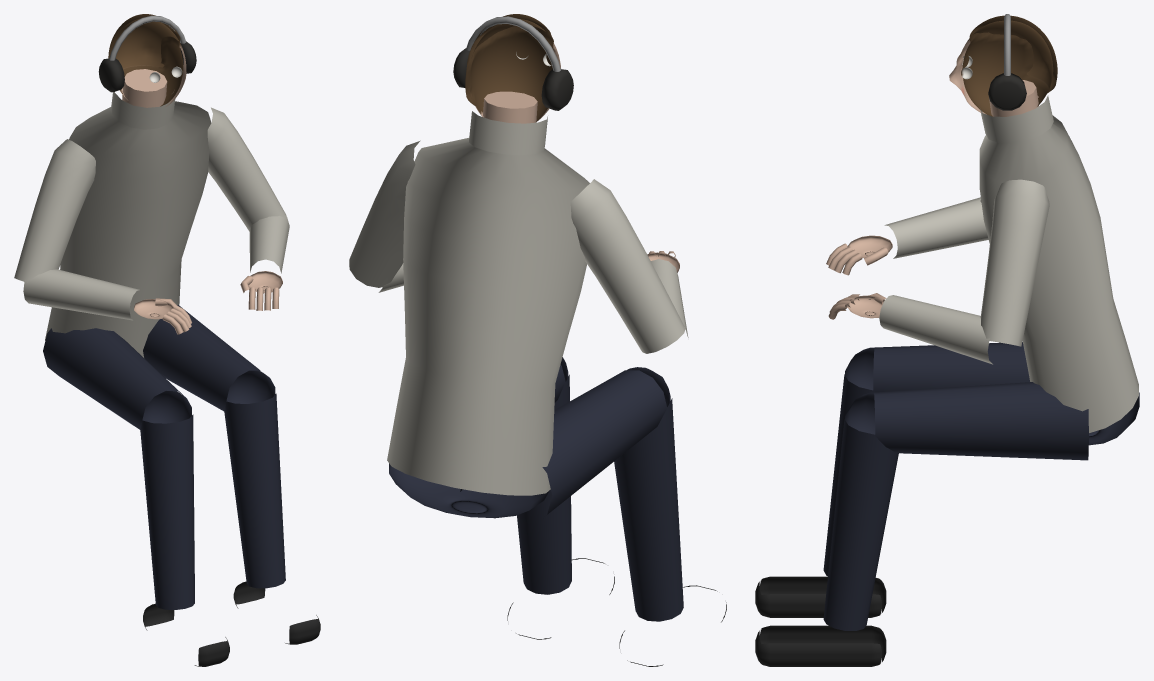
The model's file is sonar_seated.glb.
3 renders of one model, left to right at view 1: azimuth 30°, elevation 25°; view 2: azimuth 150°, elevation 25°; view 3: azimuth 270°, elevation 25°, orthographic. The views are drawn at different scales.
Parts seen in each view (by area): view 1: body, head; view 2: body, head; view 3: body, head.
Part boxes in pixels (box(x1,y1,x2,y2)): body: box(14, 69, 320, 666); head: box(98, 14, 196, 106); body: box(349, 91, 726, 666); head: box(453, 14, 573, 122); body: box(755, 80, 1139, 666); head: box(949, 14, 1057, 116).
Size of the model in its own units: 0.7066 by 1.41 by 0.7922.
